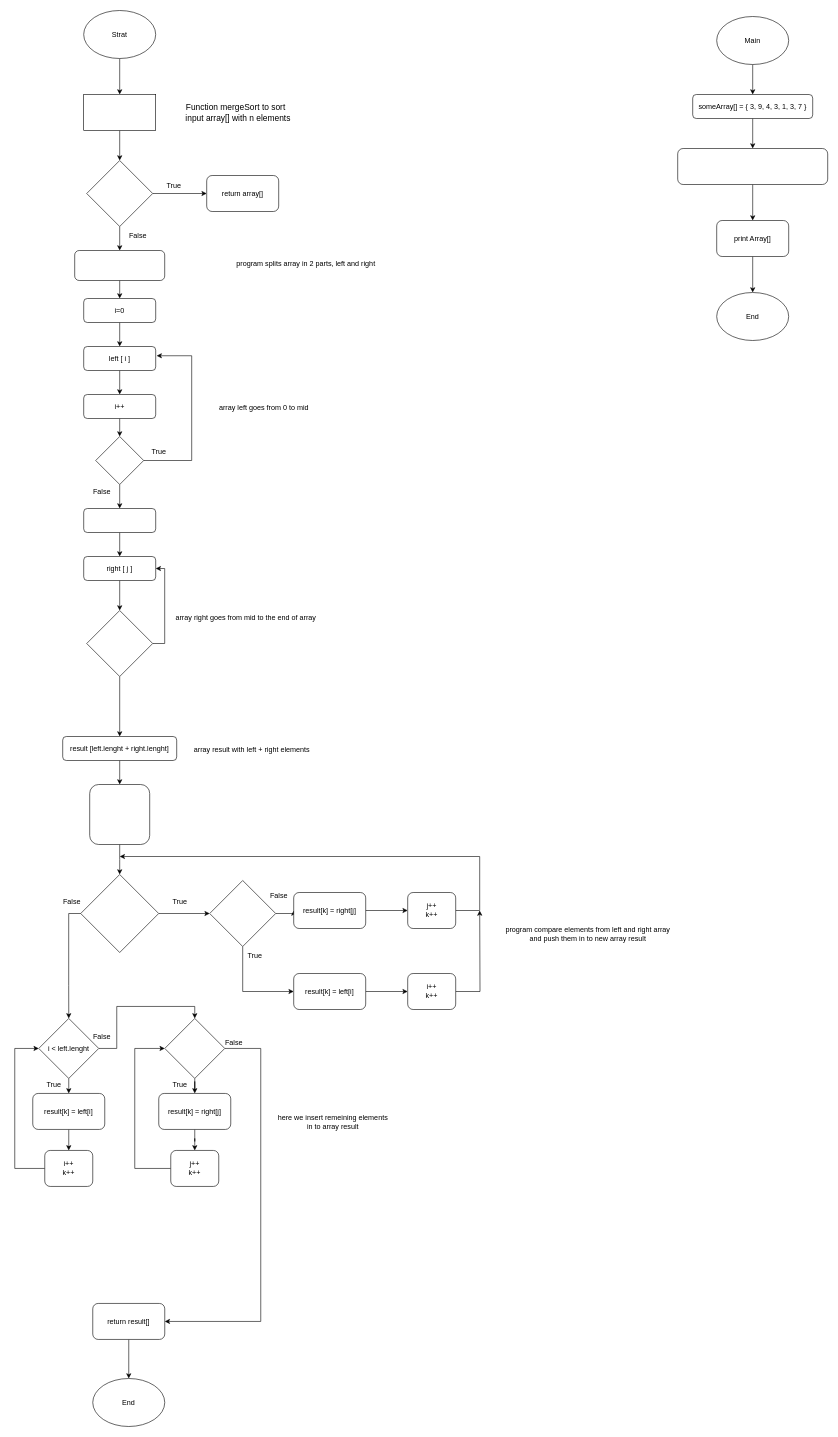
Some shapes in this 838 by 1437 pixel diagram are drawn without their labels. The centre of each missing label's shape, as x and y in pixels:
"array.lenght <= 1" goes at point 119,193.
"i < left.lenght && j < right.lenght" goes at point 119,913.
"i < mid" goes at point 119,460.
"i=0 j=0 k=0" goes at point 119,814.
"j < array.lenght" goes at point 119,643.
"j < right.lenght" goes at point 194,1048.
"j=mid" goes at point 119,520.
"left[i] < right[j]" goes at point 242,913.
"mergeSort (array[n])" goes at point 119,112.
"mergeSort(someArray[])" goes at point 752,166.
"mid = array.lenght / 2" goes at point 119,265.
